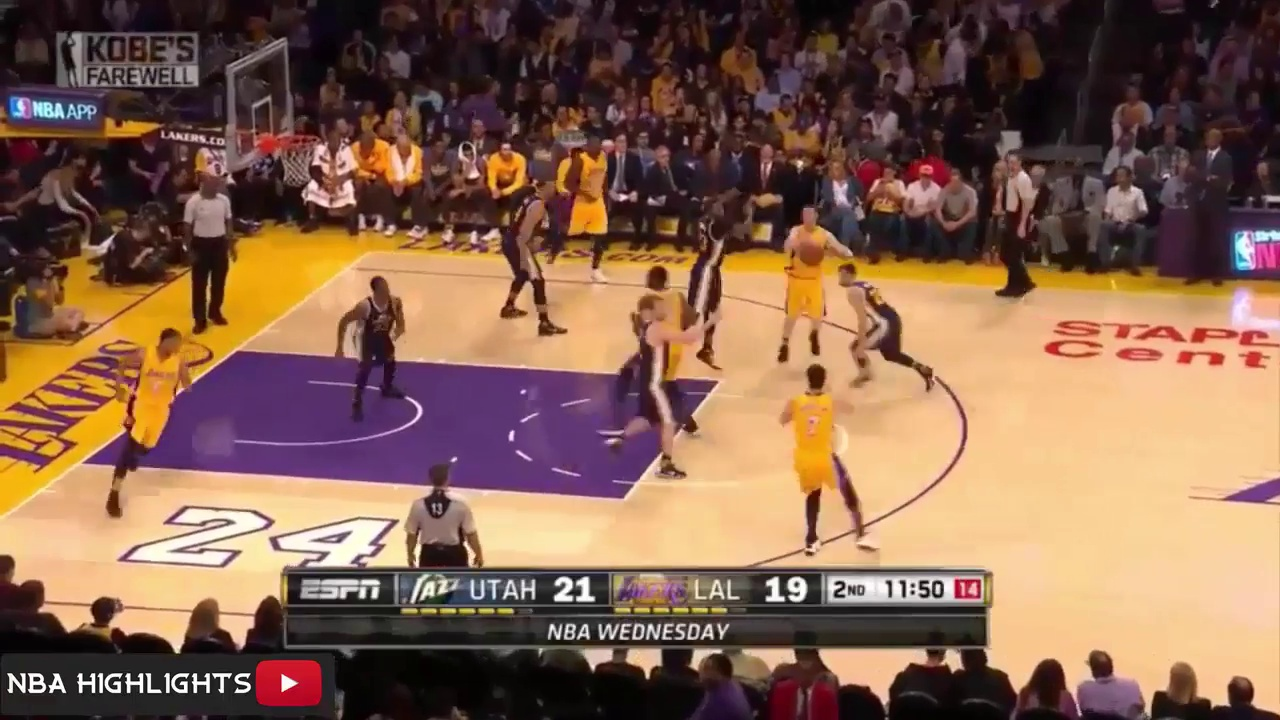jazz: (616, 299, 702, 481), (833, 265, 940, 388), (693, 190, 758, 367), (340, 273, 407, 423), (499, 183, 563, 335)
lakers: (783, 361, 874, 550), (105, 327, 194, 516), (643, 265, 698, 429), (559, 135, 611, 287), (785, 203, 835, 361)
